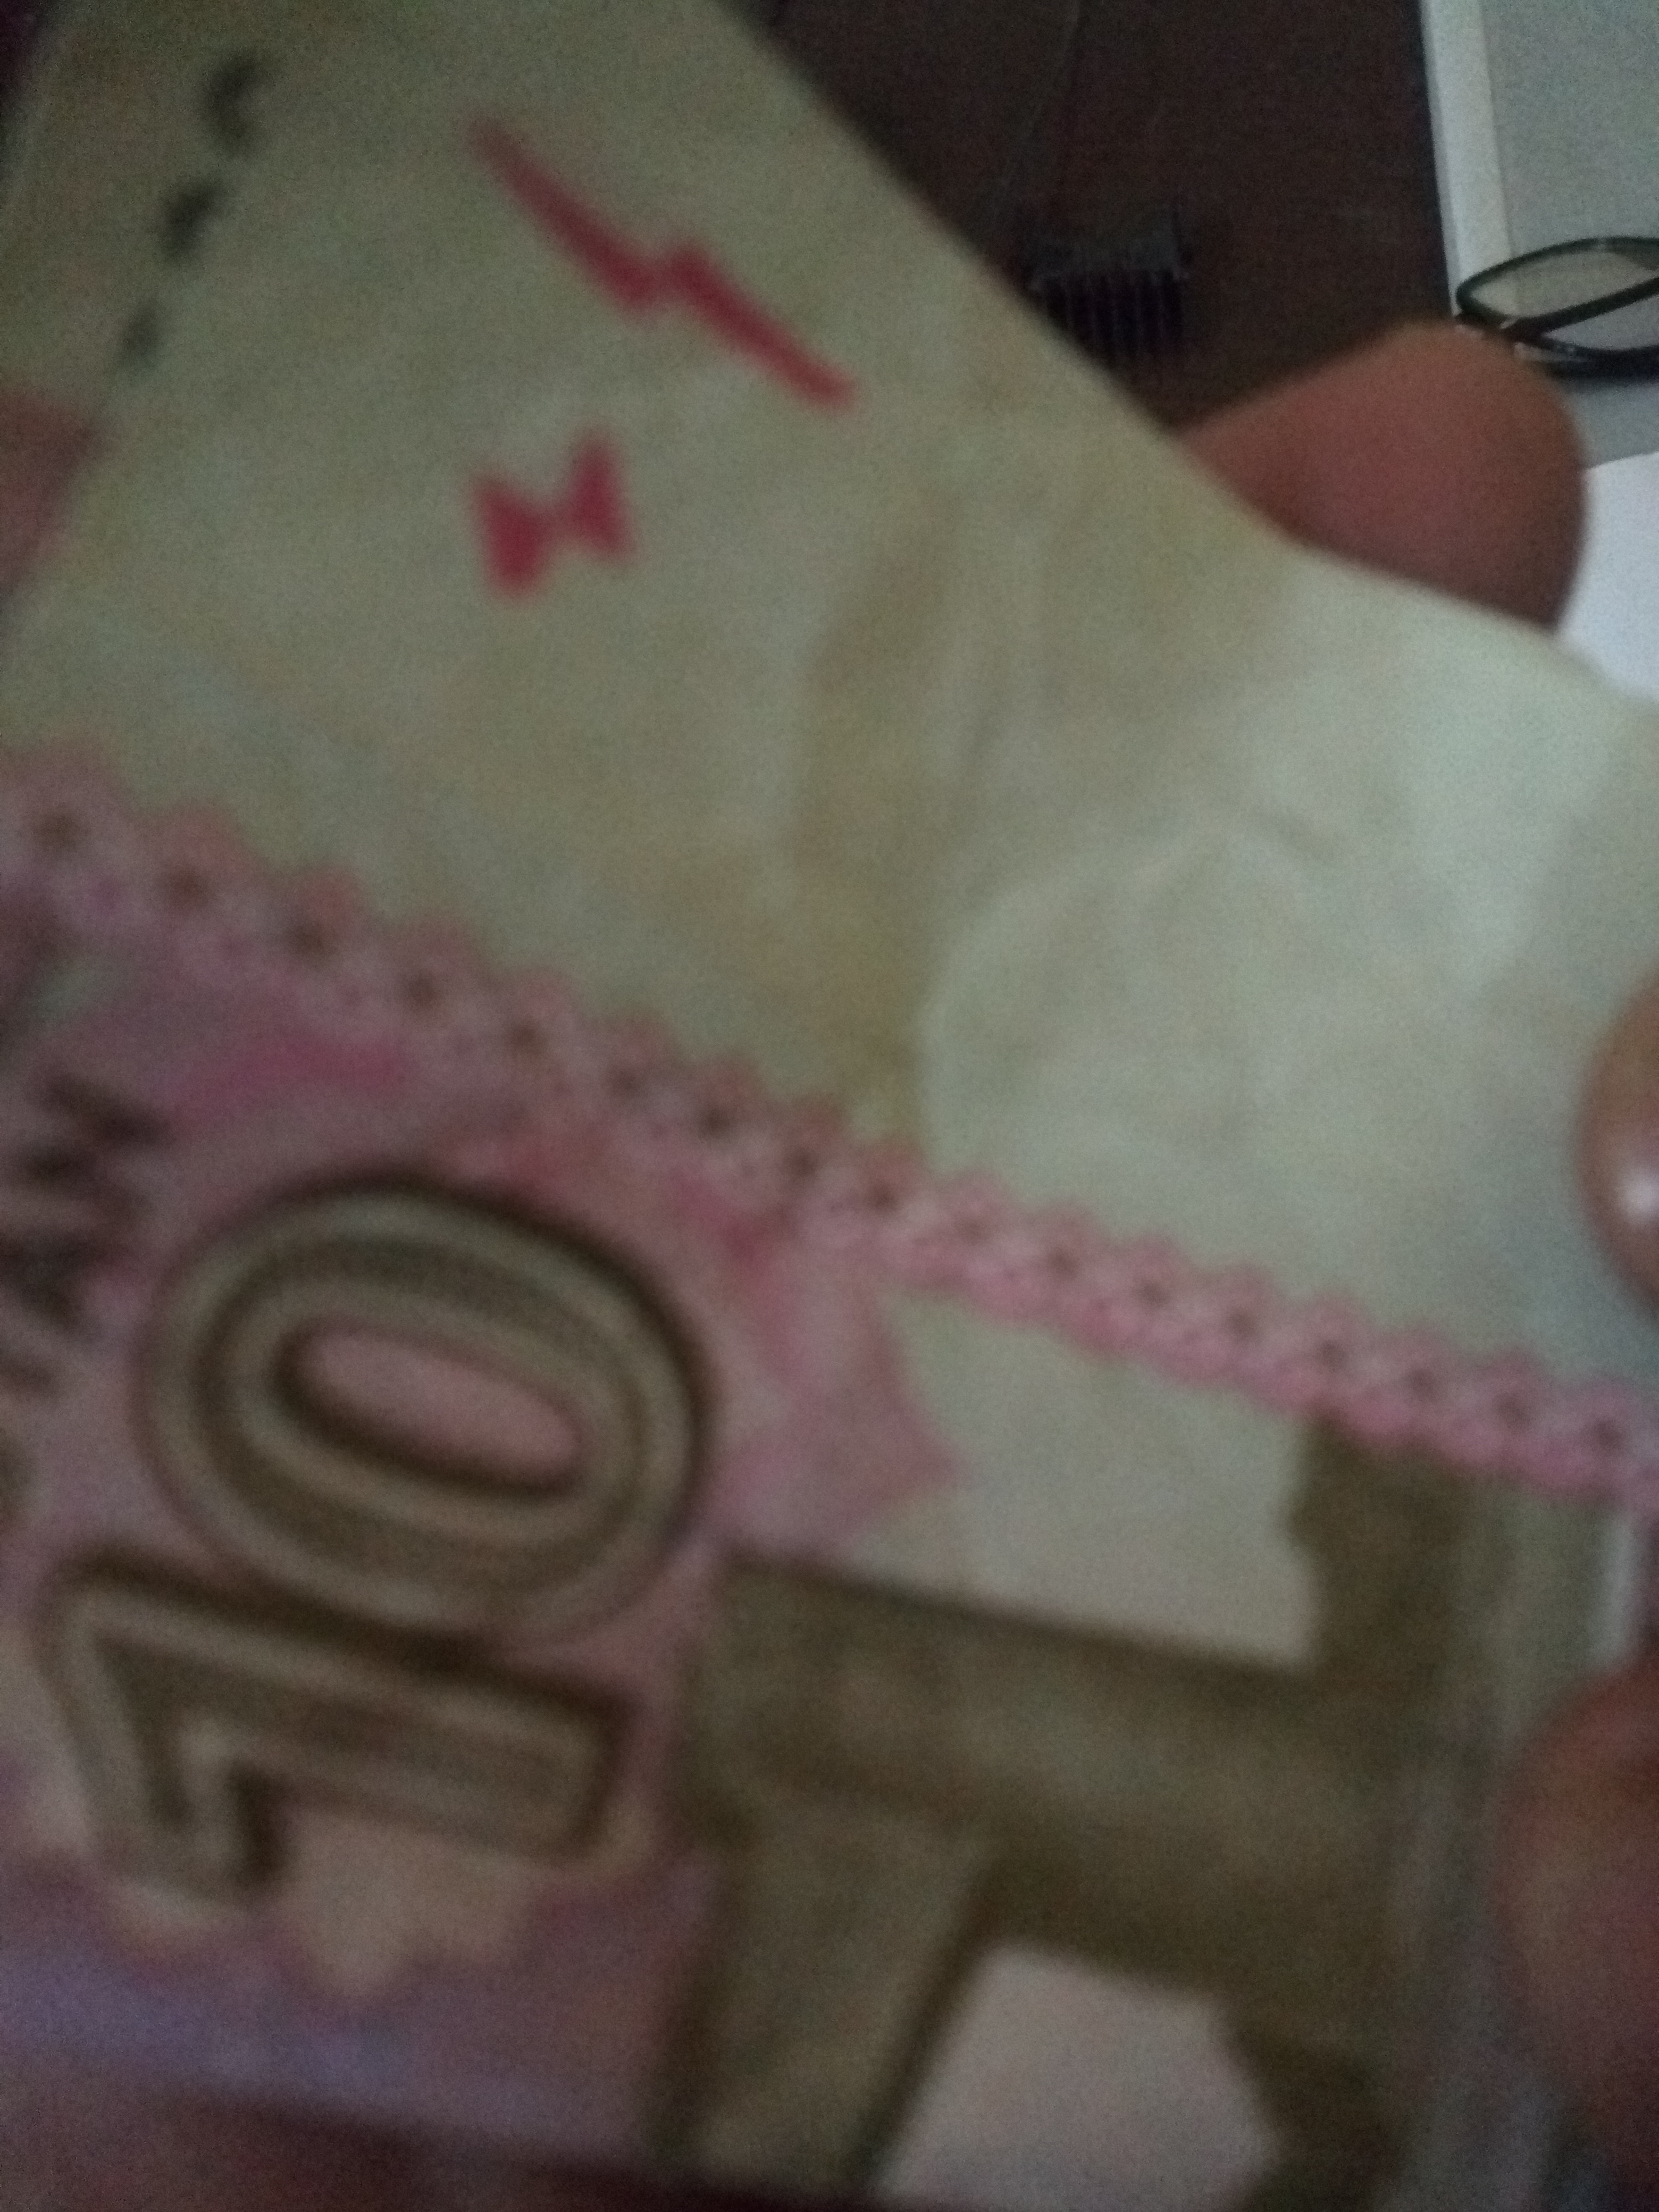10 rupee: (66, 80, 1621, 2207)
